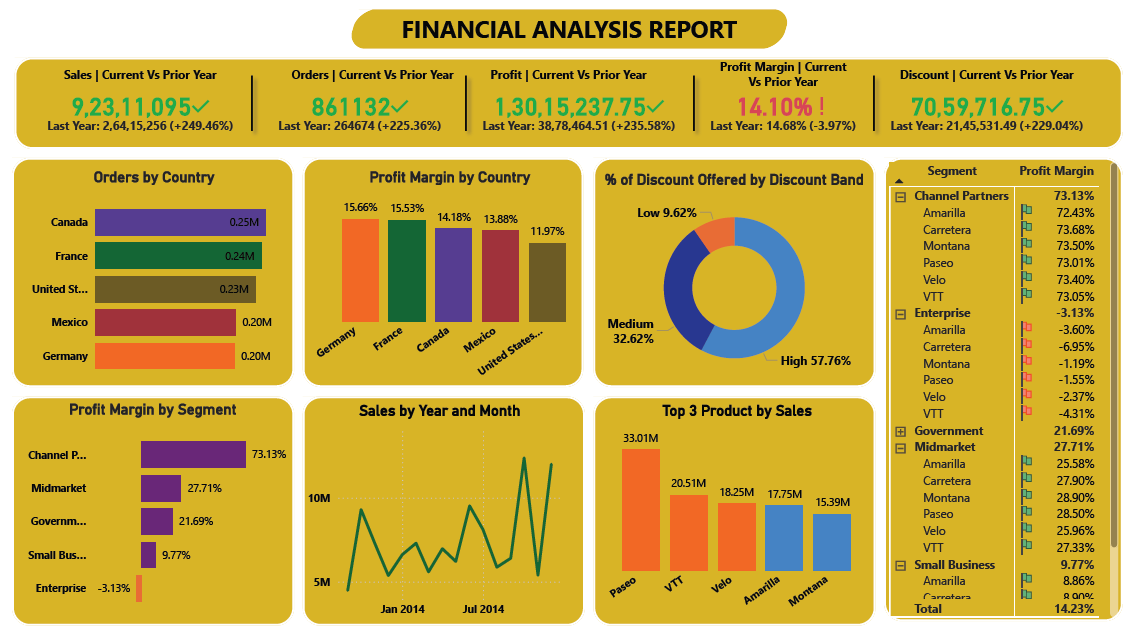

This screenshot's page, from the dashboard's own definition file:
{"tool":"powerbi","page":{"name":"Page 1","canvas":[1280,720],"ordinal":0},"visuals":[{"type":"shape","box":[13,66.2,1257.1,103.7],"z":1},{"type":"shape","box":[999.4,180,270.7,525.6],"z":2},{"type":"shape","box":[10.7,450,320,260],"z":3},{"type":"shape","box":[340,450,320,260],"z":4},{"type":"shape","box":[10,180,320,260],"z":5},{"type":"shape","box":[340,180,318.2,260],"z":6},{"type":"shape","box":[670,450,320,260],"z":7},{"type":"shape","box":[670,180,320,260],"z":8},{"type":"shape","box":[390.2,11.5,504,44.6],"z":9},{"type":"kpi","fields":{"Indicator":["Analysis.Total Sales"],"TrendLine":["Date Table.Year"],"Goal":["Analysis.Last Yr Sales"]},"box":[38.9,90.7,233.3,79.2],"z":10},{"type":"shape","box":[38.9,66.2,233.3,36],"z":11},{"type":"kpi","fields":{"TrendLine":["Date Table.Year"],"Indicator":["Analysis.Orders"],"Goal":["Analysis.Last Yr Orders"]},"box":[298.1,90.7,213.1,79.2],"z":12},{"type":"kpi","fields":{"TrendLine":["Date Table.Year"],"Indicator":["Analysis.Total Profit"],"Goal":["Analysis.Last Yr Profit"]},"box":[537.1,90.7,231.8,79.2],"z":13},{"type":"kpi","fields":{"TrendLine":["Date Table.Year"],"Goal":["Analysis.Last Yr Profit Margin"],"Indicator":["Analysis.Profit Margin"]},"box":[794.9,90.7,180,79.2],"z":14},{"type":"kpi","fields":{"TrendLine":["Date Table.Year"],"Goal":["Analysis.Last Yr Dis Offered"],"Indicator":["Analysis.Total Discount Offered"]},"box":[1000.8,90.7,230.4,79.2],"z":15},{"type":"shape","box":[312.5,66.2,213.1,36],"z":16},{"type":"shape","box":[525.6,66.2,231.8,36],"z":17},{"type":"shape","box":[794.9,66.2,180,36],"z":18},{"type":"shape","box":[1000.8,66.2,230.4,36],"z":19},{"type":"shape","box":[253.4,77.8,59,80.6],"z":20},{"type":"shape","box":[496,77.8,59,80.6],"z":21},{"type":"shape","box":[754,77.8,59,80.6],"z":22},{"type":"shape","box":[959,77.8,59,80.6],"z":23},{"type":"barChart","fields":{"Y":["Analysis.Orders"],"Category":["financials.Country"]},"box":[13,191.5,316.8,249.1],"z":24},{"type":"columnChart","fields":{"Category":["financials.Country"],"Y":["Analysis.Profit Margin"]},"box":[348.5,191.5,316.8,249.1],"z":25},{"type":"donutChart","title":"% of Discount Offered by Discount Band","fields":{"Y":["Analysis.Total Discount Offered"],"Category":["financials.Discount Band"]},"box":[676.8,194.4,305.3,249.1],"z":26},{"type":"barChart","fields":{"Category":["financials.Segment"],"Y":["Analysis.Profit Margin"]},"box":[10.1,455,319.7,249.1],"z":27},{"type":"lineChart","title":"Sales by Year and Month","fields":{"Y":["Analysis.Total Sales"],"Category":["Date Table.Date.Variation.Date Hierarchy.Year","Date Table.Date.Variation.Date Hierarchy.Month"]},"box":[339.8,456.5,311,253.4],"z":28},{"type":"columnChart","title":"Top 3 Product by Sales","fields":{"Y":["Analysis.Total Sales"],"Category":["financials.Product"]},"box":[675.8,455.9,314.6,253.9],"z":29},{"type":"pivotTable","fields":{"Rows":["financials.Segment","financials.Product"],"Values":["Analysis.Profit Margin"]},"box":[1000.8,180,269.3,525.6],"z":30}]}

Visuals, with their boxes in screenshot pixels (x1, y1, x2, y2), scaled from the page's 1280x720 canvas onto the 1132x635 screenshot:
shape: 11/58/1123/150
shape: 884/159/1123/622
shape: 9/397/292/626
shape: 301/397/584/626
shape: 9/159/292/388
shape: 301/159/582/388
shape: 593/397/876/626
shape: 593/159/876/388
shape: 345/10/791/49
kpi - Analysis.Total Sales x Date Table.Year: 34/80/241/150
shape: 34/58/241/90
kpi - Date Table.Year x Analysis.Orders: 264/80/452/150
kpi - Date Table.Year x Analysis.Total Profit: 475/80/680/150
kpi - Date Table.Year x Analysis.Last Yr Profit Margin: 703/80/862/150
kpi - Date Table.Year x Analysis.Last Yr Dis Offered: 885/80/1089/150
shape: 276/58/465/90
shape: 465/58/670/90
shape: 703/58/862/90
shape: 885/58/1089/90
shape: 224/69/276/140
shape: 439/69/491/140
shape: 667/69/719/140
shape: 848/69/900/140
barChart - Analysis.Orders x financials.Country: 11/169/292/389
columnChart - financials.Country x Analysis.Profit Margin: 308/169/588/389
"% of Discount Offered by Discount Band" donutChart: 599/171/869/391
barChart - financials.Segment x Analysis.Profit Margin: 9/401/292/621
"Sales by Year and Month" lineChart: 301/403/576/626
"Top 3 Product by Sales" columnChart: 598/402/876/626
pivotTable - financials.Segment x financials.Product: 885/159/1123/622
